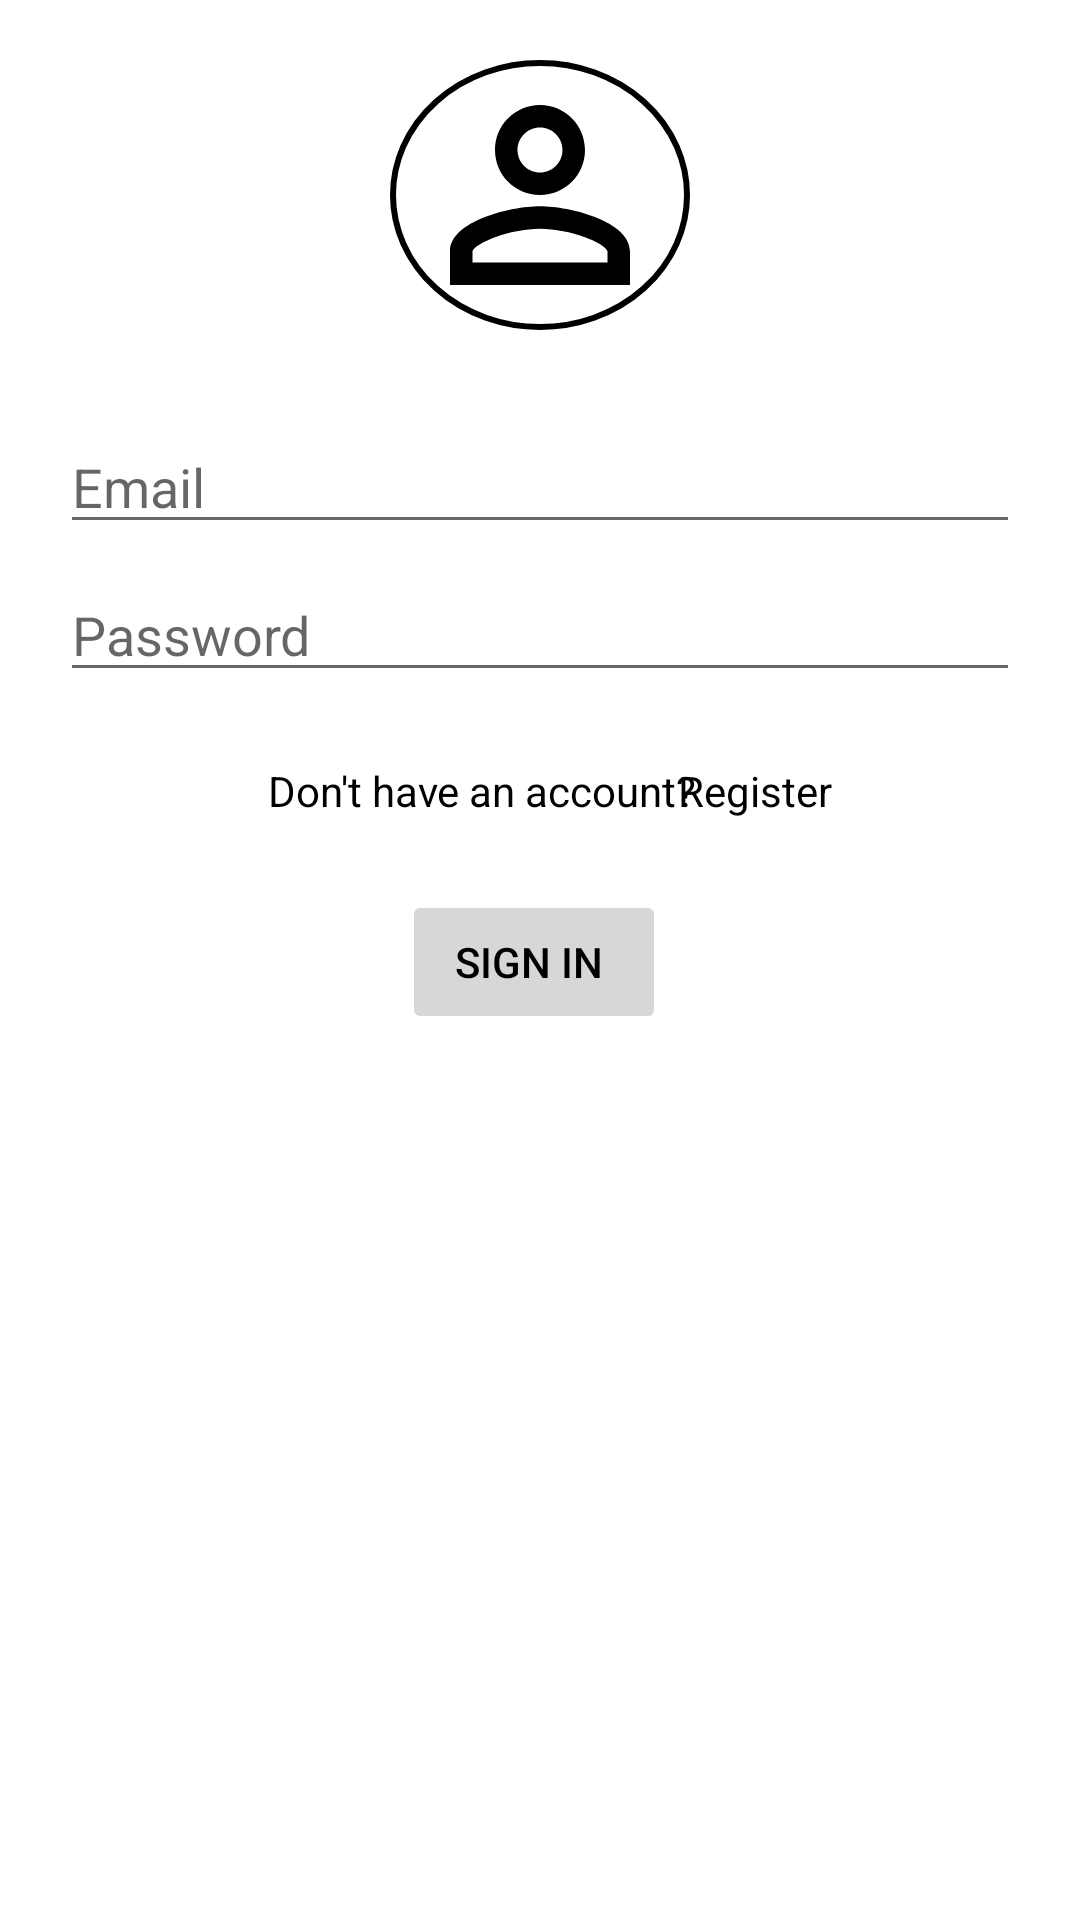

Named icons in this screenshot (1080 x 1920) and their centers, (x=x, y=y):
person: (x=540, y=195)
